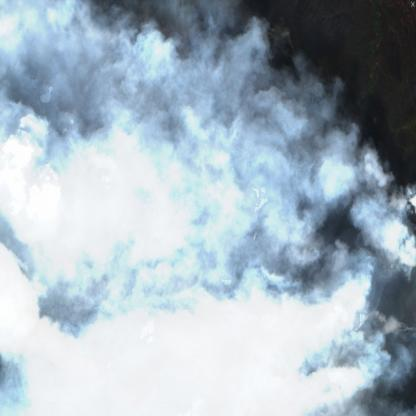fire: (5, 0, 164, 216), (99, 244, 208, 416), (363, 221, 416, 352)
